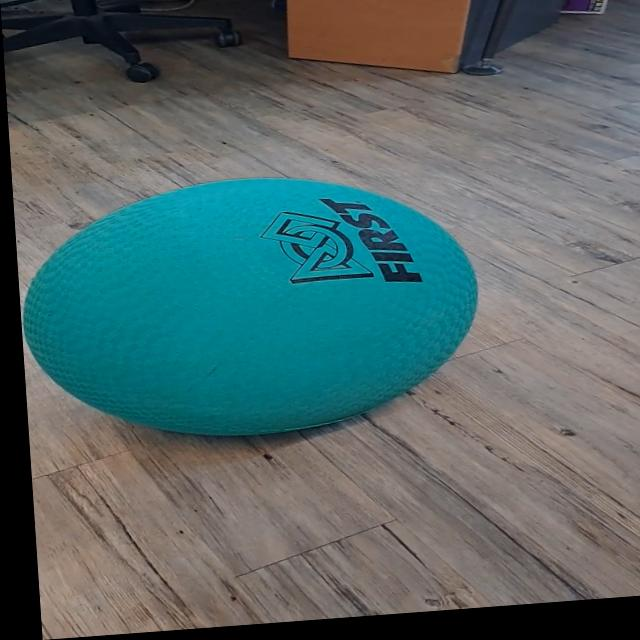ALGAE: (14, 160, 488, 453)
